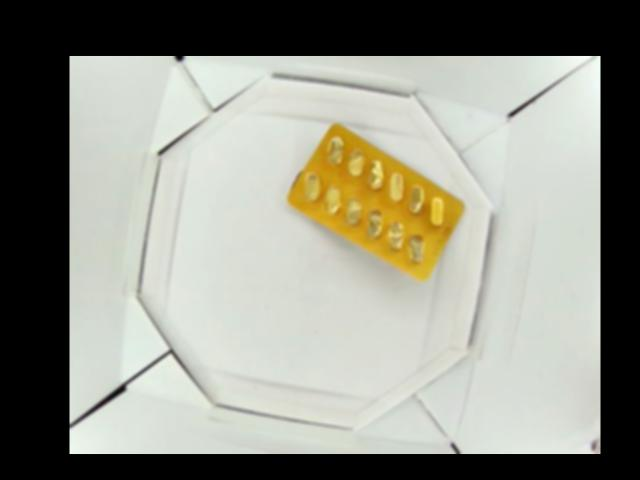Medicine: (285, 120, 464, 279)
